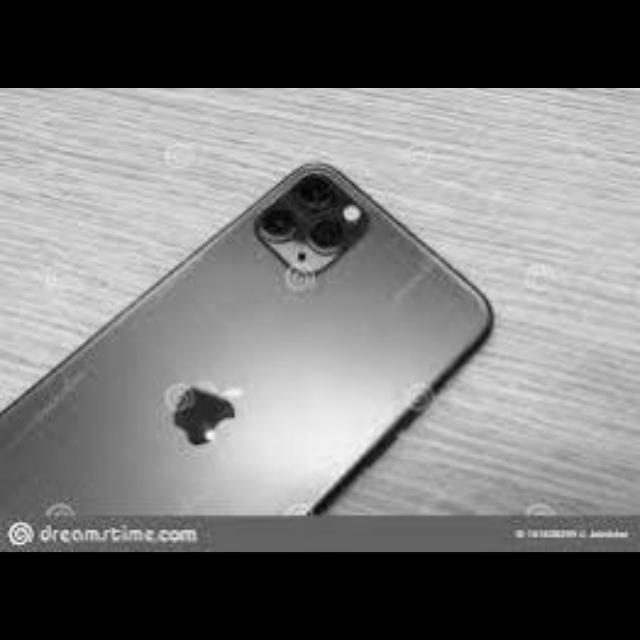fake: (8, 164, 500, 562)
